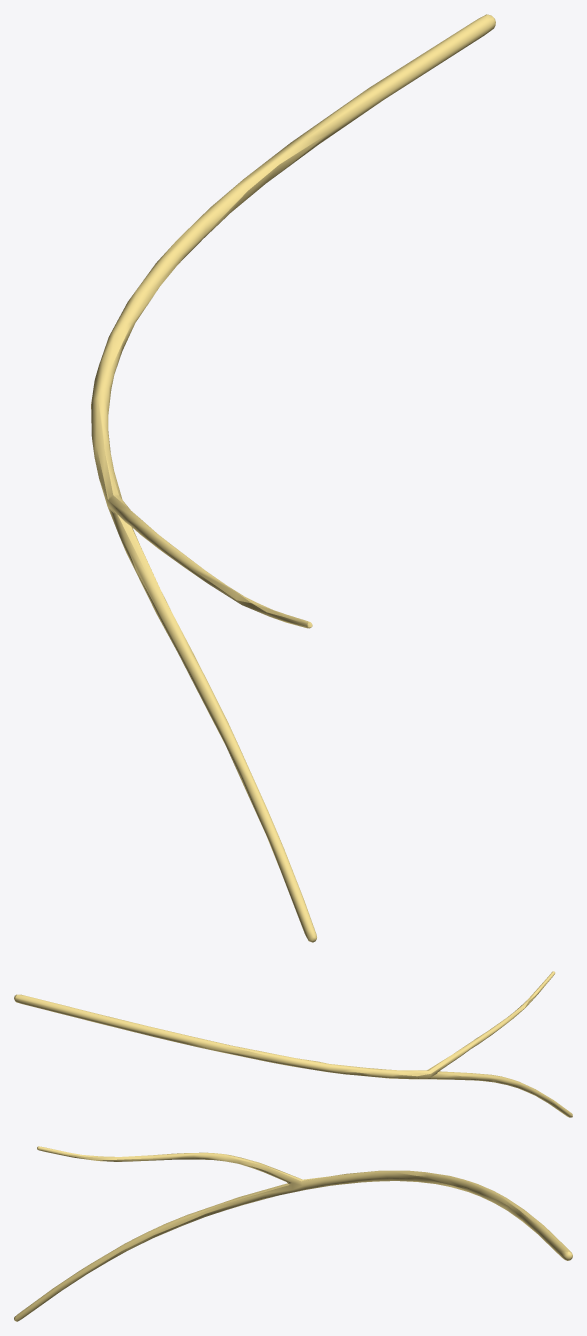
Rendered from fma52787_fj3978.glb.
3 renders of one model, top to bottom at view 1: azimuth 30°, elevation 25°; view 2: azimuth 150°, elevation 25°; view 3: azimuth 270°, elevation 25°, orthographic. The views are drawn at different scales.
Visible parts, largest first — view 1: FMA52787_FJ3978; view 2: FMA52787_FJ3978; view 3: FMA52787_FJ3978.
Part boxes in pixels (x1,y1,x2,y2): FMA52787_FJ3978: [91, 14, 495, 942]; FMA52787_FJ3978: [14, 971, 572, 1117]; FMA52787_FJ3978: [14, 1146, 572, 1321].
Size of the model in its own units: 0.02 by 0.0126 by 0.025.
